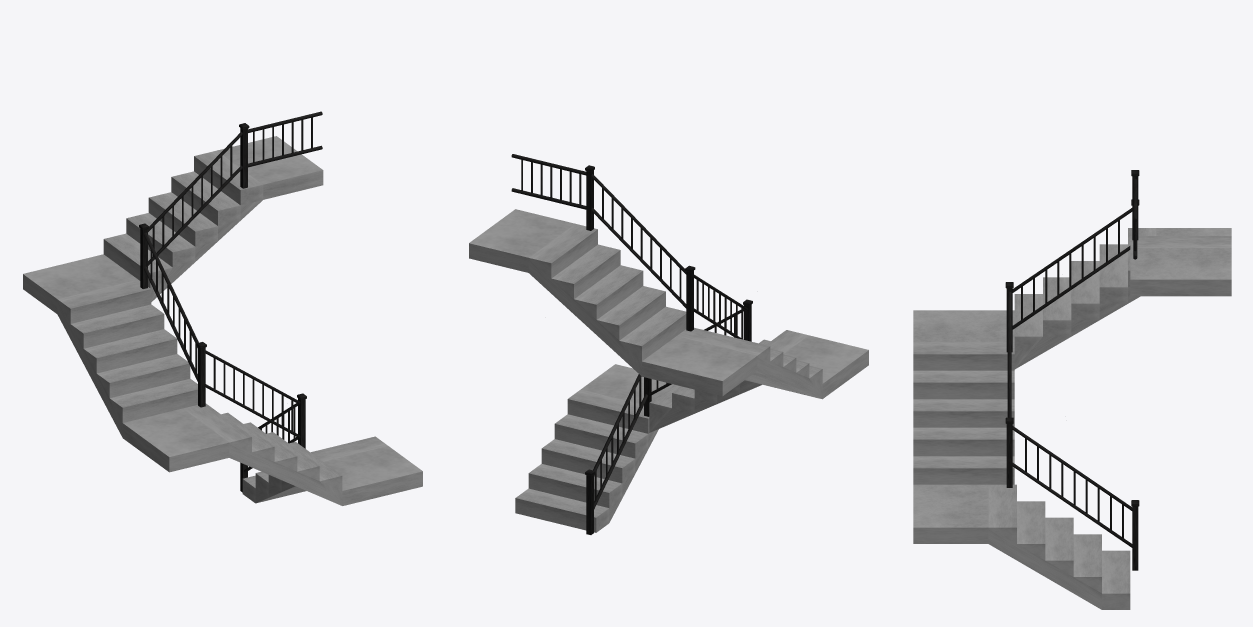
Rendered from staircase_top_B_textured_2.fbx.
3 views of the same model, side by side, from view 1: azimuth 30°, elevation 25°; view 2: azimuth 150°, elevation 25°; view 3: azimuth 270°, elevation 25° (orthographic). The views are drawn at different scales.
Visible parts, largest first — view 1: stairs.002, stairs.003, stairs.001, stairs, raling.003, raling.002, raling.001, Stair Top Rail; view 2: stairs.003, stairs, stairs.002, stairs.001, raling.003, raling, Stair Top Rail, raling.002; view 3: stairs.001, stairs, stairs.002, stairs.003, raling, raling.002, raling.001, post.
Boxes of the visible parts, x1,y1,x2,y2 form: stairs.002: [23, 254, 197, 437]; stairs.003: [103, 136, 323, 301]; stairs.001: [122, 403, 342, 505]; stairs: [242, 436, 422, 505]; raling.003: [148, 131, 242, 265]; raling.002: [144, 232, 198, 381]; raling.001: [205, 350, 300, 438]; Stair Top Rail: [248, 111, 322, 167]; stairs.003: [469, 209, 686, 376]; stairs: [515, 364, 673, 532]; stairs.002: [642, 327, 822, 398]; stairs.001: [649, 330, 868, 432]; raling.003: [591, 174, 686, 308]; raling: [593, 374, 647, 509]; Stair Top Rail: [511, 154, 586, 209]; raling.002: [694, 274, 747, 339]; stairs.001: [913, 310, 1014, 484]; stairs: [913, 484, 1130, 609]; stairs.002: [1014, 228, 1231, 369]; stairs.003: [1130, 236, 1231, 296]; raling: [1012, 426, 1132, 547]; raling.002: [1012, 208, 1132, 329]; raling.001: [1007, 291, 1011, 417]; post: [1132, 506, 1138, 570].
Size of the model in its own units: 328 by 500 by 328.
Materials: 3 (3 with a texture image).
